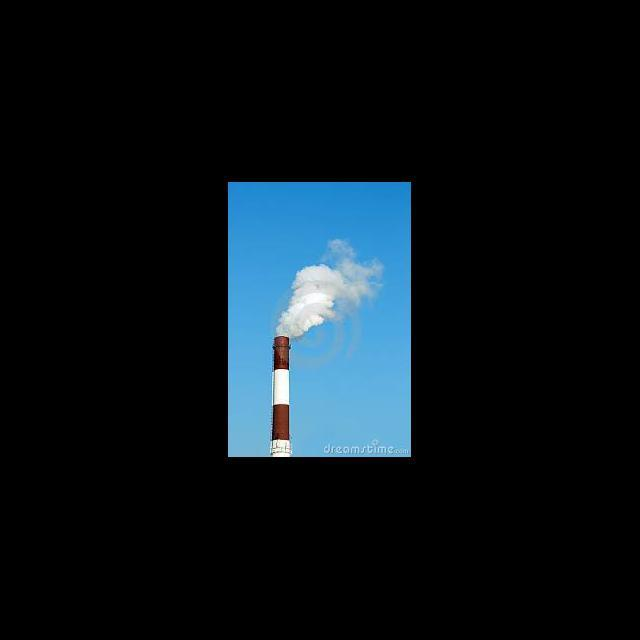Smoke: (276, 240, 385, 339)
